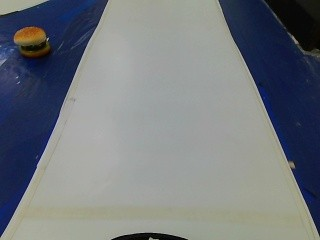burger: (12, 24, 51, 60)
